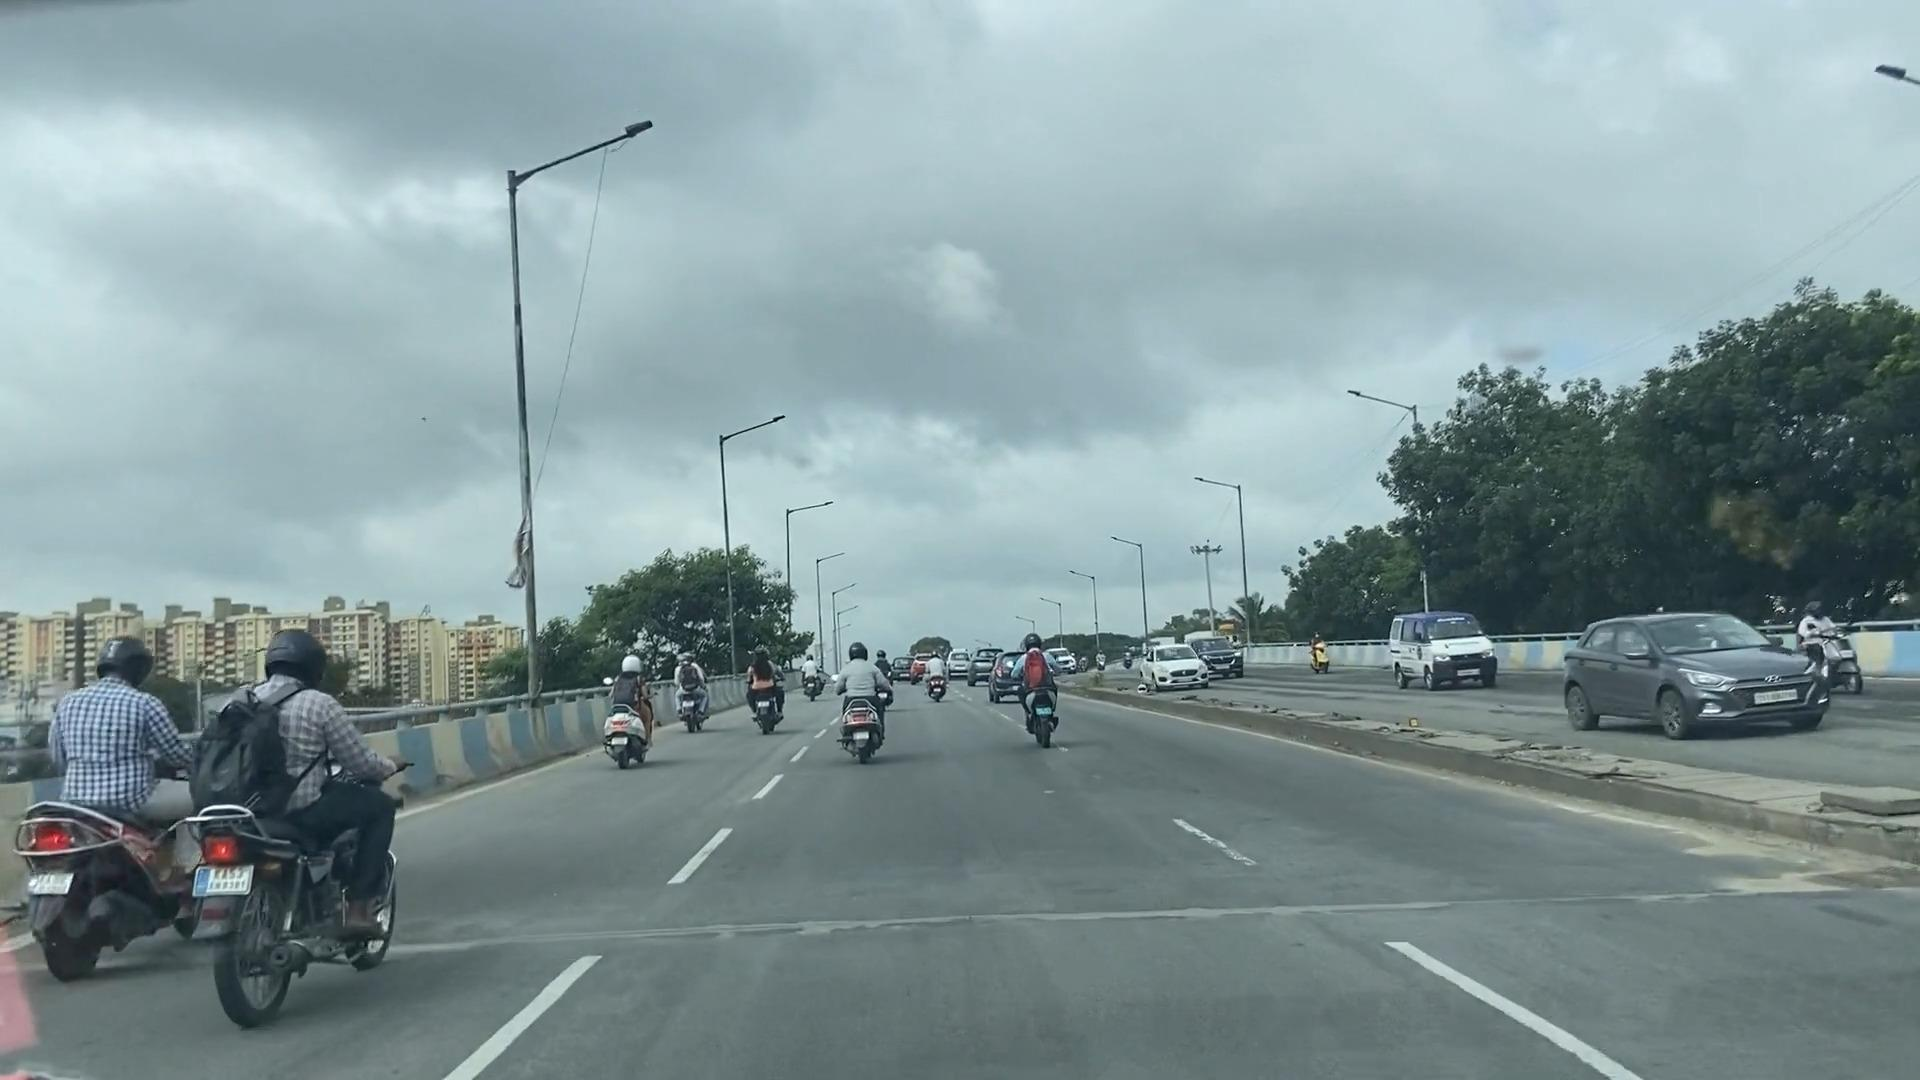LMV: (196, 665, 367, 1005), (24, 651, 135, 978), (1010, 628, 1075, 740), (832, 638, 886, 749), (603, 650, 649, 774), (742, 647, 793, 733), (676, 642, 713, 741)
RoadDamages: (1691, 816, 1920, 914)
UnsurfacedRoad: (642, 898, 1378, 945), (1394, 886, 1691, 939)
